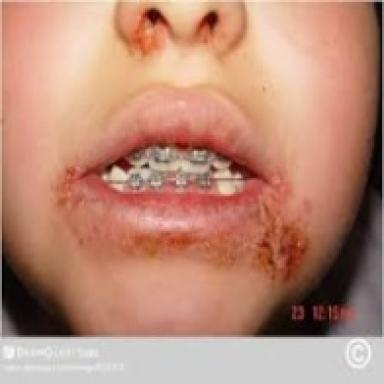Impetigo: (52, 154, 314, 284), (127, 9, 169, 64)
